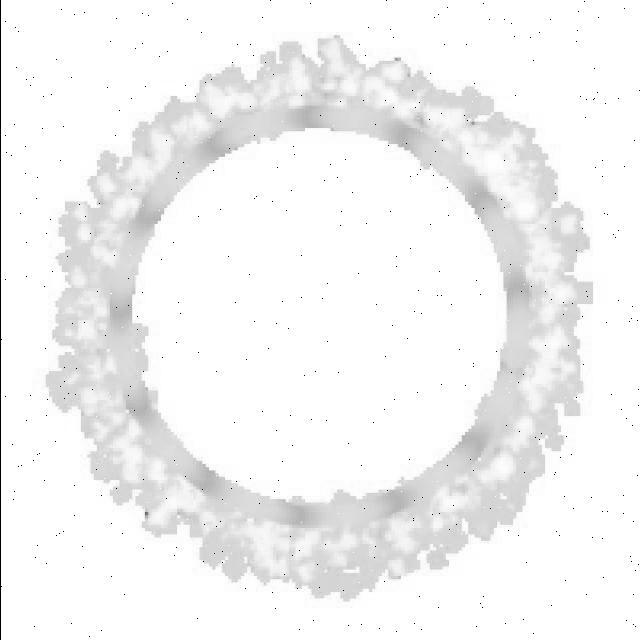Circle: (46, 42, 574, 604)
